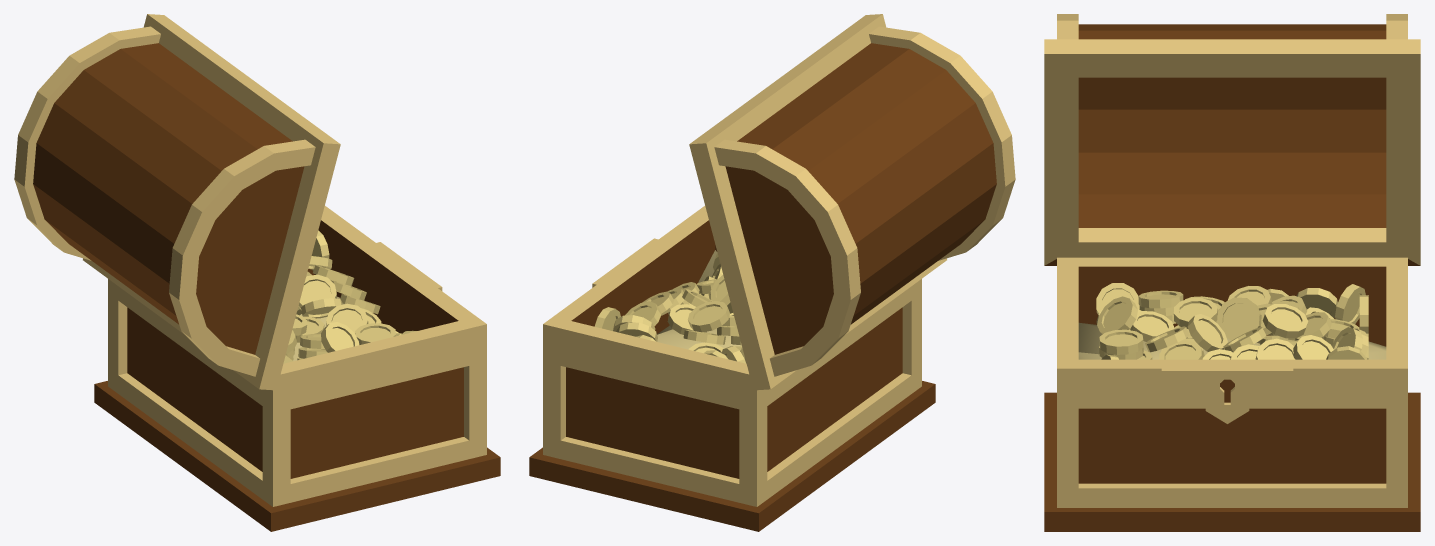
File: chest_opt.glb
The picture shows the model from 3 angles, left to right: view 1: azimuth 30°, elevation 25°; view 2: azimuth 150°, elevation 25°; view 3: azimuth 270°, elevation 25°; orthographic projection. The views are drawn at different scales.
Bounding box in the file's own units: 0.8842 × 1.01 × 0.8574.
